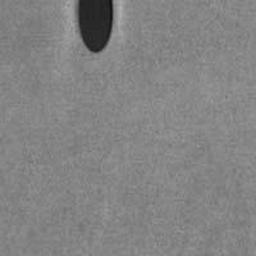Punching: (78, 0, 114, 54)
